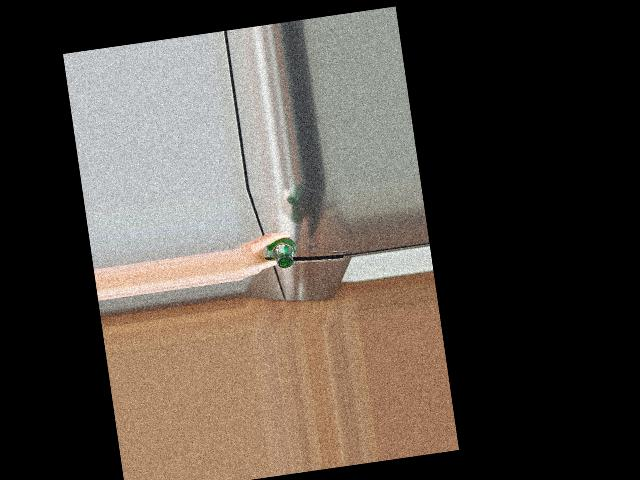beer: (266, 236, 298, 270)
